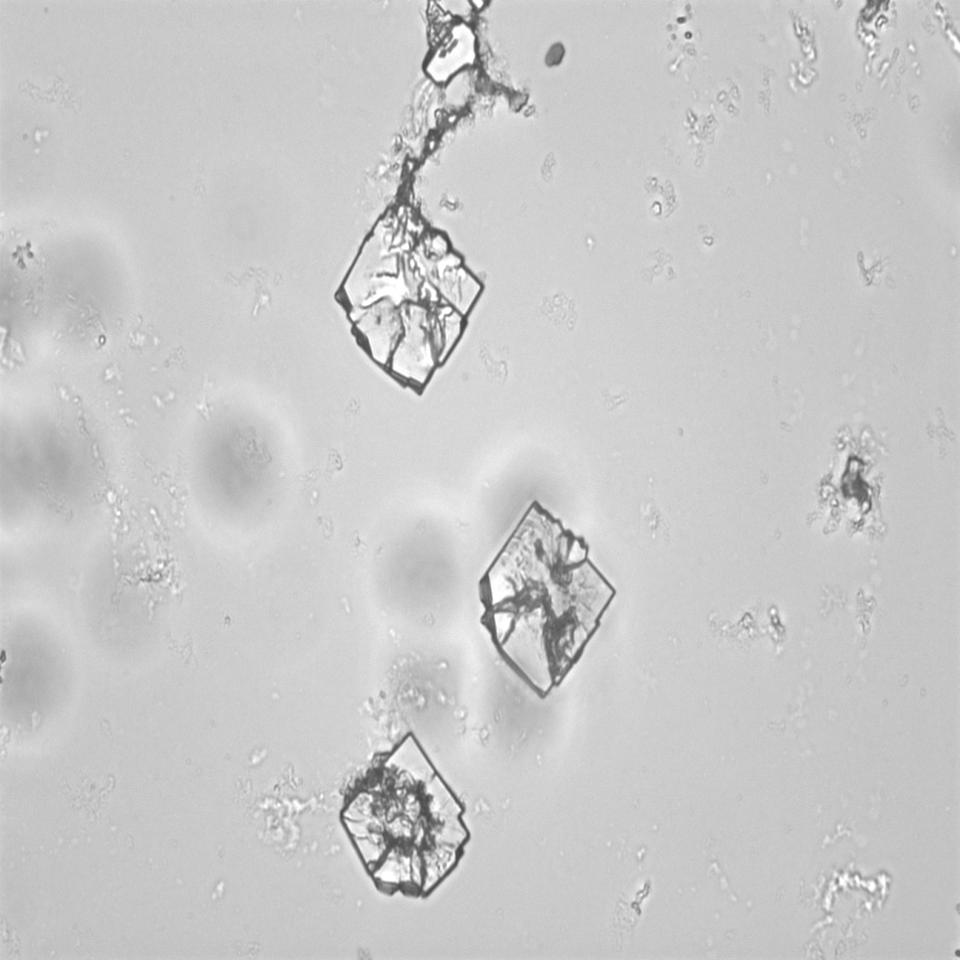crystal: (326, 193, 500, 396), (466, 499, 616, 700), (336, 726, 474, 903)
